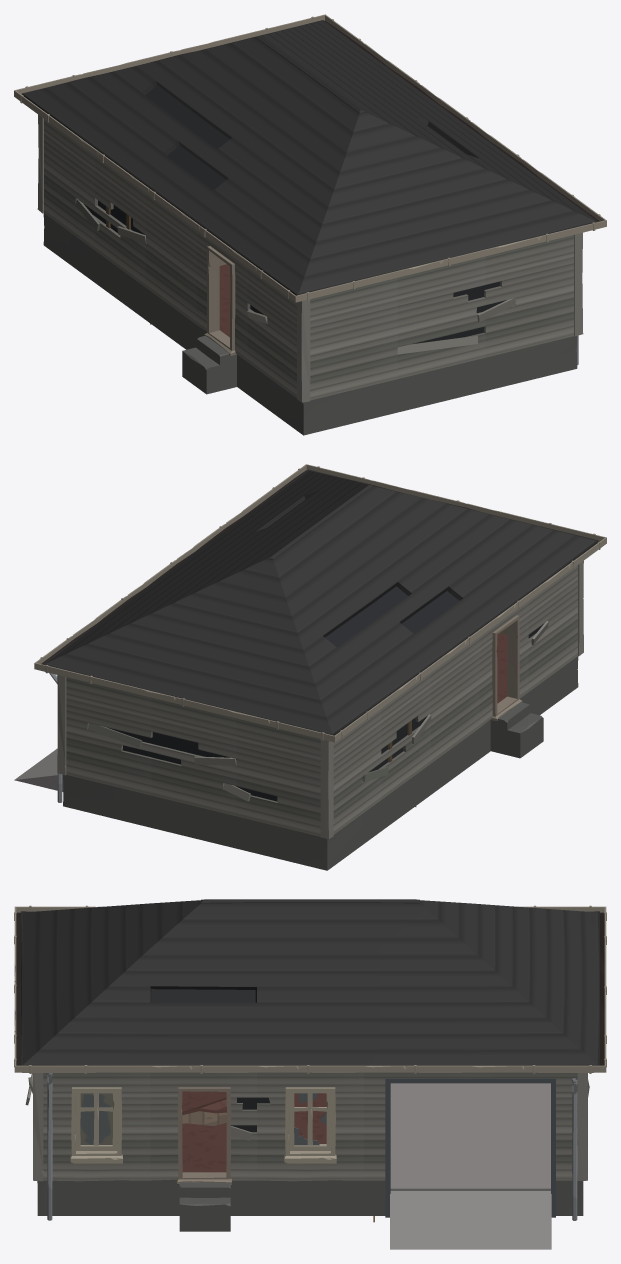
File: house.glb
3 views of the same model, one above another, from view 1: azimuth 30°, elevation 25°; view 2: azimuth 150°, elevation 25°; view 3: azimuth 270°, elevation 25° (orthographic). The views are drawn at different scales.
Parts seen in each view (by area): view 1: SM_Bld_House_02; view 2: SM_Bld_House_02; view 3: SM_Bld_House_02.
Part boxes in pixels (<box>): SM_Bld_House_02: <box>14,14,606,435</box>; SM_Bld_House_02: <box>14,464,606,870</box>; SM_Bld_House_02: <box>14,899,606,1249</box>.
Size of the model in its own units: 10.5 by 6.59 by 13.87.
Materials: 2 (2 with a texture image).
